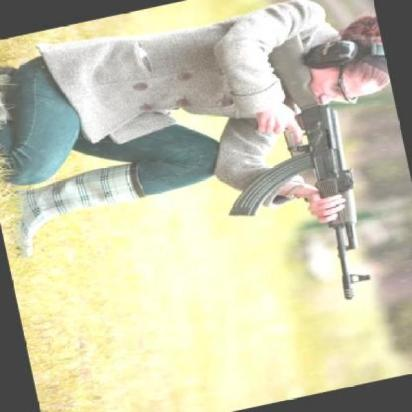Gun: (225, 37, 374, 301)
